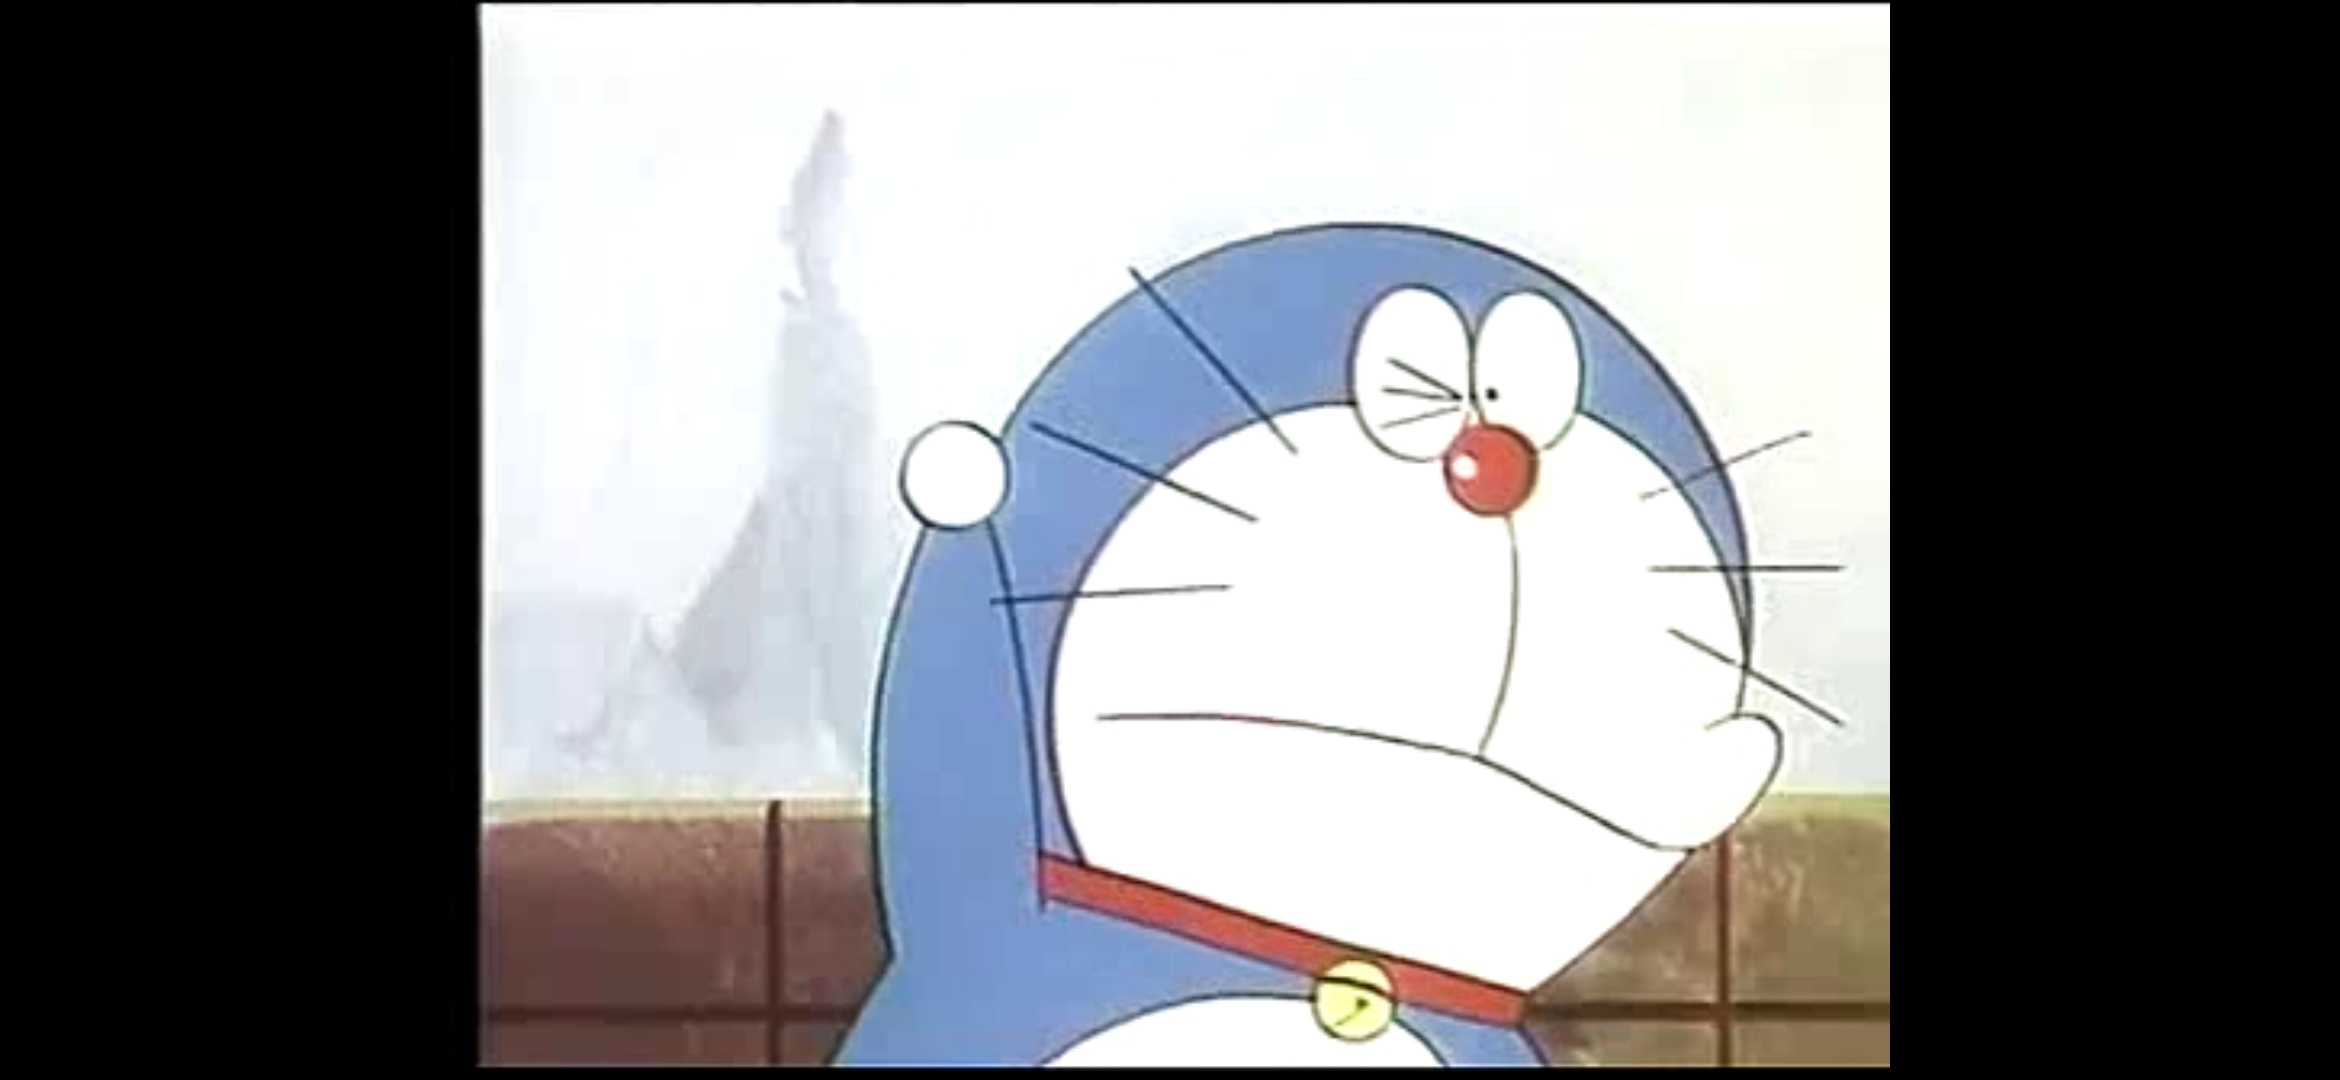Doraemon: (997, 221, 1779, 1041)
